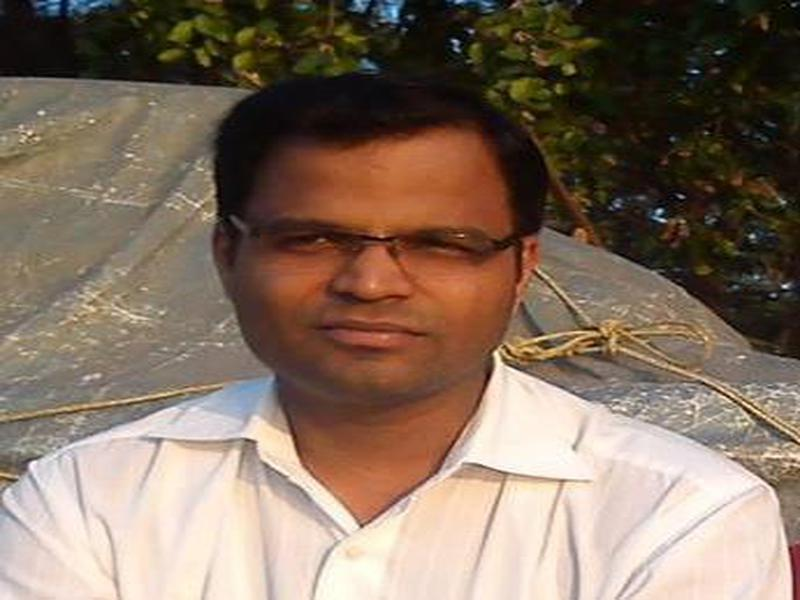without_mask: (227, 167, 517, 402)
